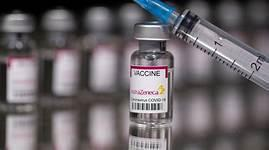Syringe: (127, 20, 178, 129)
